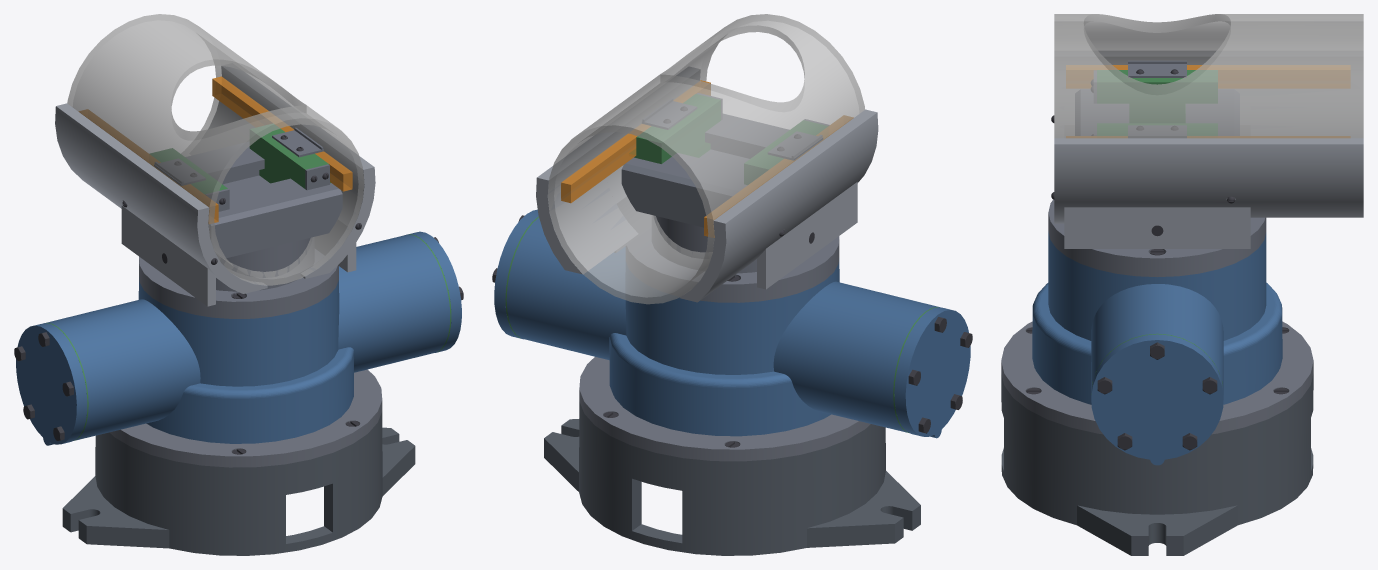
The model's file is prisposoblenie_svarochnoe_1.glb.
The picture shows the model from 3 angles, left to right: view 1: azimuth 30°, elevation 25°; view 2: azimuth 150°, elevation 25°; view 3: azimuth 270°, elevation 25°; orthographic projection. The views are drawn at different scales.
Visible parts, largest first — view 1: p07_korpus, p14_osnovanie, izdelie_stakan, p05_korpus_tolkateley, p01_gubka_L, p11_koltso, p10_kryshka_L, p01_gubka_R, x_opora_stakana_L, p03_tolkatel_R, izdelie_napravl_R, p10_kryshka_R (+5 smaller); view 2: p07_korpus, izdelie_stakan, p14_osnovanie, p05_korpus_tolkateley, p01_gubka_L, p11_koltso, p01_gubka_R, p10_kryshka_L, x_opora_stakana_L, p03_tolkatel_R, izdelie_napravl_R, p10_kryshka_R (+5 smaller); view 3: izdelie_stakan, p14_osnovanie, p07_korpus, p01_gubka_R, p10_kryshka_R, p05_korpus_tolkateley, p11_koltso, x_opora_stakana_R, p03_tolkatel_L, izdelie_napravl_L, p01_gubka_L, p02_planka_L (+3 smaller).
Boxes of the visible parts, x1=… form: p07_korpus: x1=47, y1=234, x2=450, y2=443; p14_osnovanie: x1=62, y1=411, x2=415, y2=555; izdelie_stakan: x1=67, y1=14, x2=364, y2=285; p05_korpus_tolkateley: x1=139, y1=142, x2=342, y2=318; p01_gubka_L: x1=55, y1=103, x2=267, y2=293; p11_koltso: x1=109, y1=369, x2=382, y2=467; p10_kryshka_L: x1=16, y1=323, x2=87, y2=445; p01_gubka_R: x1=208, y1=66, x2=375, y2=278; x_opora_stakana_L: x1=121, y1=206, x2=215, y2=306; p03_tolkatel_R: x1=249, y1=123, x2=330, y2=188; izdelie_napravl_R: x1=212, y1=76, x2=352, y2=191; p10_kryshka_R: x1=406, y1=231, x2=461, y2=352; p07_korpus: x1=506, y1=217, x2=937, y2=436; izdelie_stakan: x1=548, y1=14, x2=865, y2=304; p14_osnovanie: x1=544, y1=401, x2=920, y2=555; p05_korpus_tolkateley: x1=621, y1=114, x2=839, y2=302; p01_gubka_L: x1=679, y1=109, x2=878, y2=302; p11_koltso: x1=579, y1=357, x2=870, y2=461; p01_gubka_R: x1=536, y1=67, x2=700, y2=274; p10_kryshka_L: x1=894, y1=307, x2=970, y2=438; x_opora_stakana_L: x1=757, y1=182, x2=857, y2=289; p03_tolkatel_R: x1=629, y1=94, x2=720, y2=163; izdelie_napravl_R: x1=561, y1=80, x2=710, y2=203; p10_kryshka_R: x1=494, y1=209, x2=538, y2=339; izdelie_stakan: x1=1054, y1=14, x2=1363, y2=138; p14_osnovanie: x1=1001, y1=373, x2=1313, y2=555; p07_korpus: x1=1032, y1=231, x2=1282, y2=404; p01_gubka_R: x1=1054, y1=138, x2=1363, y2=223; p10_kryshka_R: x1=1091, y1=334, x2=1223, y2=465; p05_korpus_tolkateley: x1=1048, y1=89, x2=1266, y2=277; p11_koltso: x1=1001, y1=321, x2=1313, y2=434; x_opora_stakana_R: x1=1064, y1=207, x2=1250, y2=248; p03_tolkatel_L: x1=1097, y1=70, x2=1217, y2=122; izdelie_napravl_L: x1=1066, y1=65, x2=1350, y2=88; p01_gubka_L: x1=1060, y1=51, x2=1359, y2=128; p02_planka_L: x1=1128, y1=60, x2=1186, y2=77.
Bounding box in the file's own units: 336 × 334 × 246.
